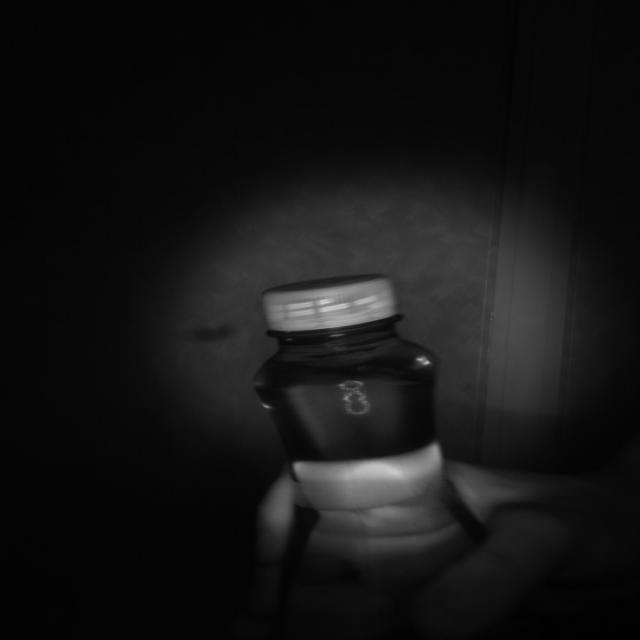Good: (253, 271, 403, 334)
